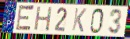0: (90, 8, 106, 35)
2: (54, 7, 68, 33)
3: (108, 8, 124, 35)
E: (14, 4, 35, 34)
H: (33, 6, 54, 32)
K: (71, 7, 88, 33)
